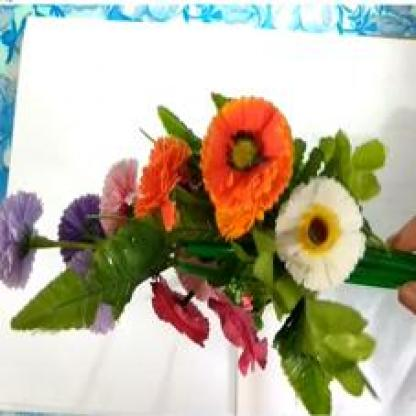flower: (4, 77, 414, 394)
